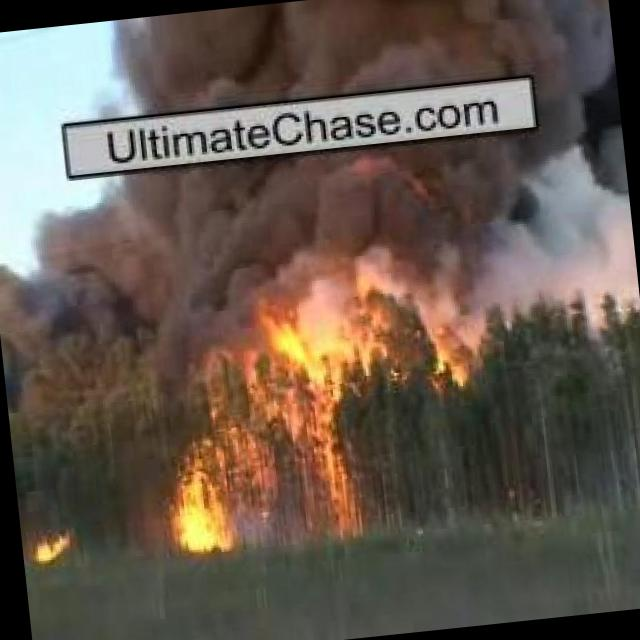Fire: (262, 295, 373, 552), (158, 450, 244, 553), (418, 303, 478, 385), (31, 532, 71, 568)
Smoke: (144, 254, 496, 559), (15, 126, 632, 298), (108, 0, 615, 116), (31, 532, 71, 568)
